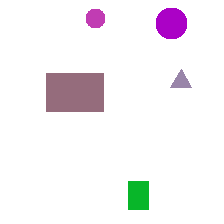circle: (156, 8, 186, 38), (86, 9, 104, 27)
rectangle: (46, 73, 103, 111), (128, 181, 148, 209)
triangle: (170, 69, 191, 87)
